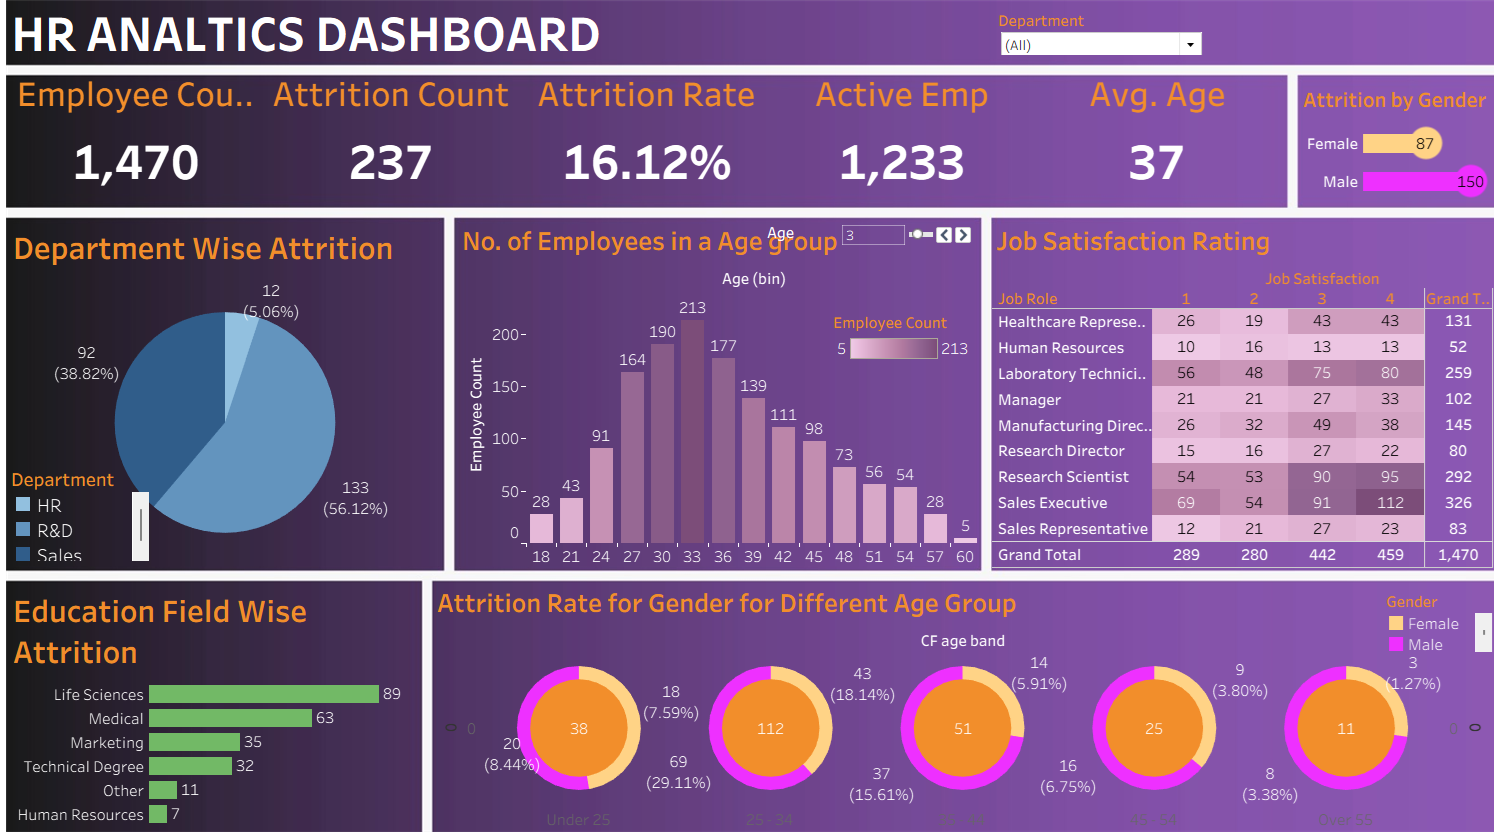

What the dashboard file says about the page in this screenshot:
{"tool":"tableau","page":{"name":"Dashboard 1","canvas":[1709,856],"ordinal":0},"visuals":[{"type":"image","param":"Image/WhatsApp Image 2026-02-26 at 3.28.50 AM (1).jpeg","box":[8,8,1693,840]},{"type":"text","box":[111,12,715,64]},{"type":"filter","title":"Department Wise Attrition","param":"[federated.100bkkv0f82cem1gach2t1pw9r32].[none:Department:nk]","box":[1101,22,207,45]},{"type":"worksheet","title":"KPI","mark":"Automatic","box":[111,87,1277,130]},{"type":"worksheet","title":"Attrition by Gender","mark":"Automatic","rows":["Gender"],"cols":["Calculation_109212308773576704","Calculation_109212308773576704"],"box":[1402,93,196,125]},{"type":"worksheet","title":"No. of Employees in a Age group","mark":"Automatic","rows":["Employee Count"],"cols":["Age (bin)"],"box":[561,231,523,349]},{"type":"worksheet","title":"Job Satisfaction Rating","mark":"Square","rows":["Job Role"],"cols":["Job Satisfaction"],"box":[1095,231,501,349]},{"type":"worksheet","title":"Department Wise Attrition","mark":"Pie","box":[112,234,432,345]},{"type":"parameter","param":"[Parameters].[Parameter 1]","box":[870,234,207,33]},{"type":"legend","title":"No. of Employees in a Age group","param":"[federated.100bkkv0f82cem1gach2t1pw9r32].[sum:Employee Count:qk]","box":[936,324,140,76]},{"type":"legend","title":"Department Wise Attrition","param":"[federated.100bkkv0f82cem1gach2t1pw9r32].[none:Department:nk]","box":[114,478,140,95]},{"type":"worksheet","title":"Attrition Rate for Gender for Different Age Group","mark":"Pie","rows":["Calculation_954200189213769729","Calculation_954200189213777923"],"cols":["CF_age band"],"box":[536,593,1059,250]},{"type":"worksheet","title":"Education Field Wise Attrition","mark":"Automatic","rows":["Education Field"],"cols":["Calculation_109212308773576704"],"box":[112,597,409,241]},{"type":"legend","title":"Attrition Rate for Gender for Different Age Group","param":"[federated.100bkkv0f82cem1gach2t1pw9r32].[none:Gender:nk]","box":[1489,603,108,61]}]}

Visuals, with their boxes on the page's 1709x856 design canvas (x1, y1, x2, y2). These are canvas units, not pixel positions in the 1494x832 screenshot, which may show the page scaled, cropped or inside an application window:
image: <box>8,8,1701,848</box>
text: <box>111,12,826,76</box>
"Department Wise Attrition" filter: <box>1101,22,1308,67</box>
"KPI" worksheet: <box>111,87,1388,217</box>
"Attrition by Gender" worksheet: <box>1402,93,1598,218</box>
"No. of Employees in a Age group" worksheet: <box>561,231,1084,580</box>
"Job Satisfaction Rating" worksheet (Square marks): <box>1095,231,1596,580</box>
"Department Wise Attrition" worksheet (Pie marks): <box>112,234,544,579</box>
parameter: <box>870,234,1077,267</box>
"No. of Employees in a Age group" legend: <box>936,324,1076,400</box>
"Department Wise Attrition" legend: <box>114,478,254,573</box>
"Attrition Rate for Gender for Different Age Group" worksheet (Pie marks): <box>536,593,1595,843</box>
"Education Field Wise Attrition" worksheet: <box>112,597,521,838</box>
"Attrition Rate for Gender for Different Age Group" legend: <box>1489,603,1597,664</box>
